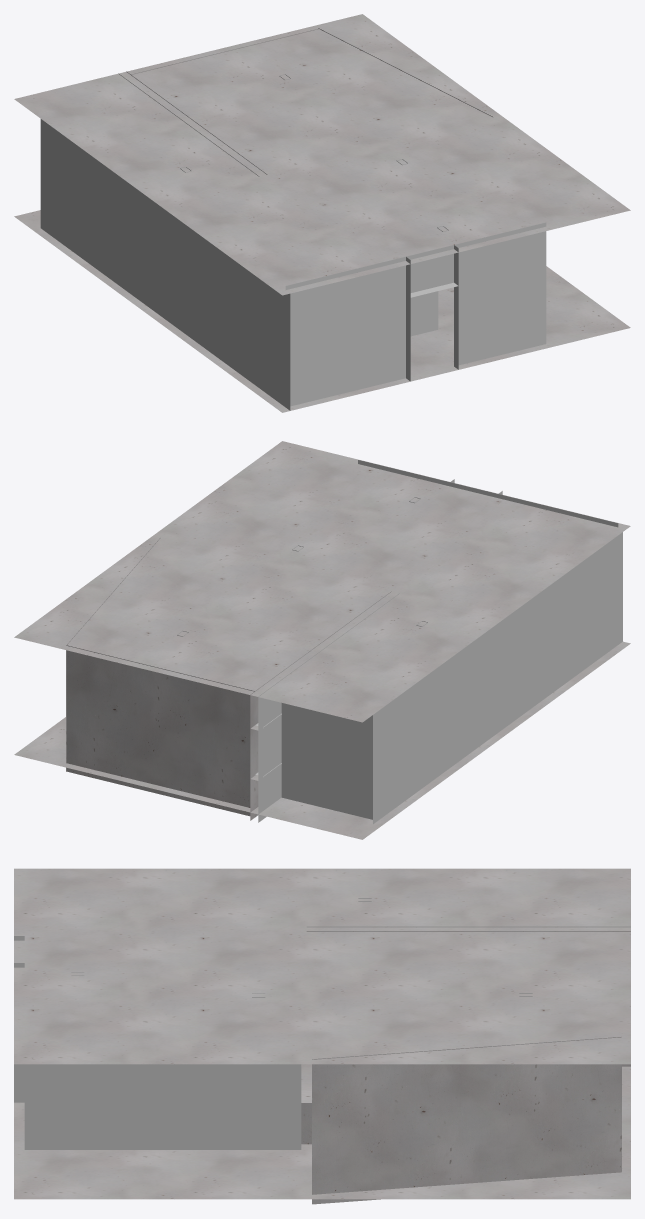
The model's file is cont1_008.fbx.
The picture shows the model from 3 angles, top to bottom: view 1: azimuth 30°, elevation 25°; view 2: azimuth 150°, elevation 25°; view 3: azimuth 270°, elevation 25°; orthographic projection. The views are drawn at different scales.
Parts seen in each view (by area): view 1: metal, white; view 2: metal, white; view 3: metal, white.
Part boxes in pixels (<box>): metal: <box>14,14,630,412</box>; white: <box>40,73,546,410</box>; metal: <box>14,441,630,839</box>; white: <box>258,460,622,824</box>; metal: <box>14,868,630,1204</box>; white: <box>14,926,630,1149</box>.
Bounding box in the file's own units: 13.92 × 4.96 × 18.56.
